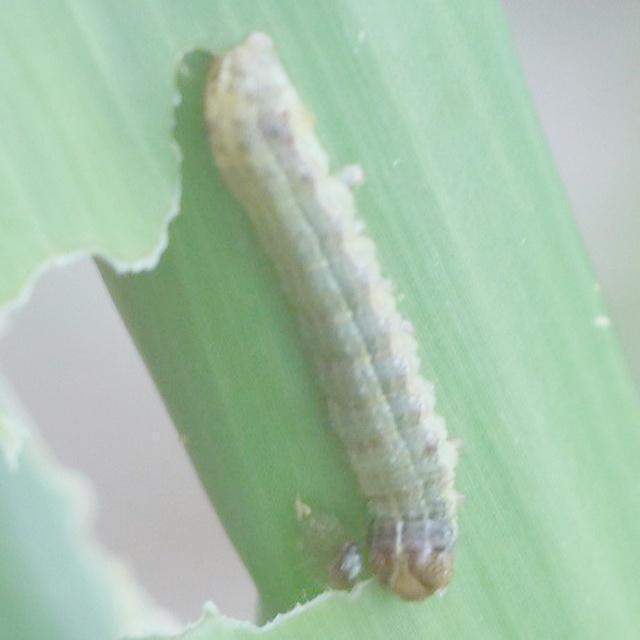gusano_cogollero: (198, 28, 460, 608)
